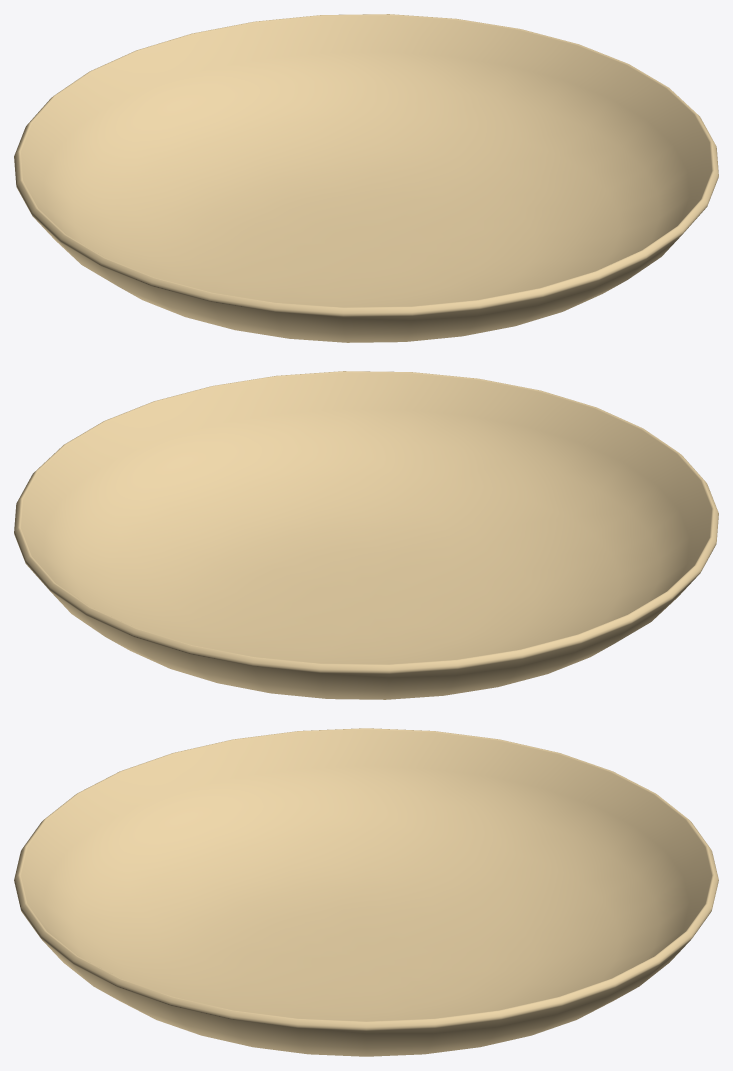
The model's file is SM_Bowl.FBX.
3 renders of one model, top to bottom at view 1: azimuth 30°, elevation 25°; view 2: azimuth 150°, elevation 25°; view 3: azimuth 270°, elevation 25°, orthographic.
Visible parts, largest first — view 1: SM_Bowl; view 2: SM_Bowl; view 3: SM_Bowl.
Boxes of the visible parts, box(x1,y1,x2,y2) form: SM_Bowl: box(14, 14, 718, 342); SM_Bowl: box(14, 371, 718, 699); SM_Bowl: box(14, 728, 718, 1056).
Size of the model in its own units: 43.53 by 43.53 by 7.14.
